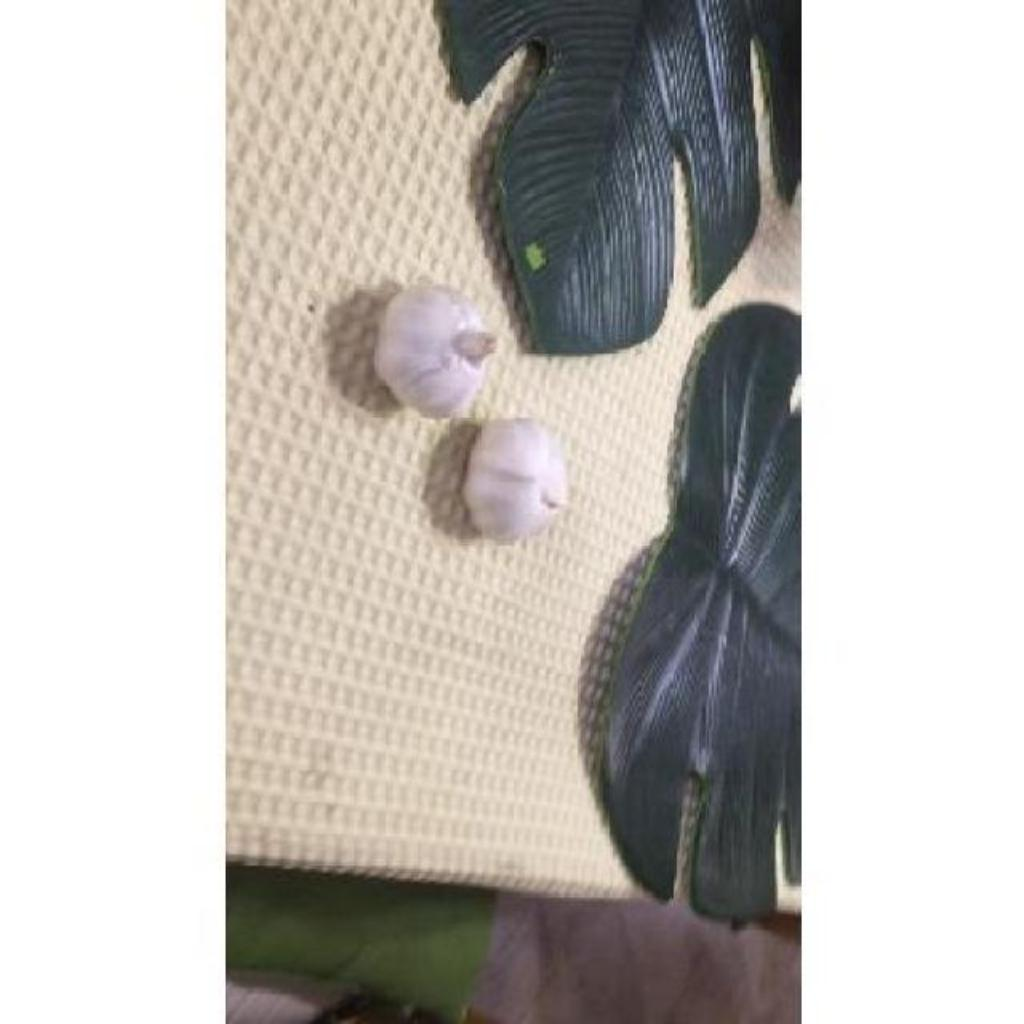garlic: (374, 284, 498, 417), (462, 418, 568, 539)
